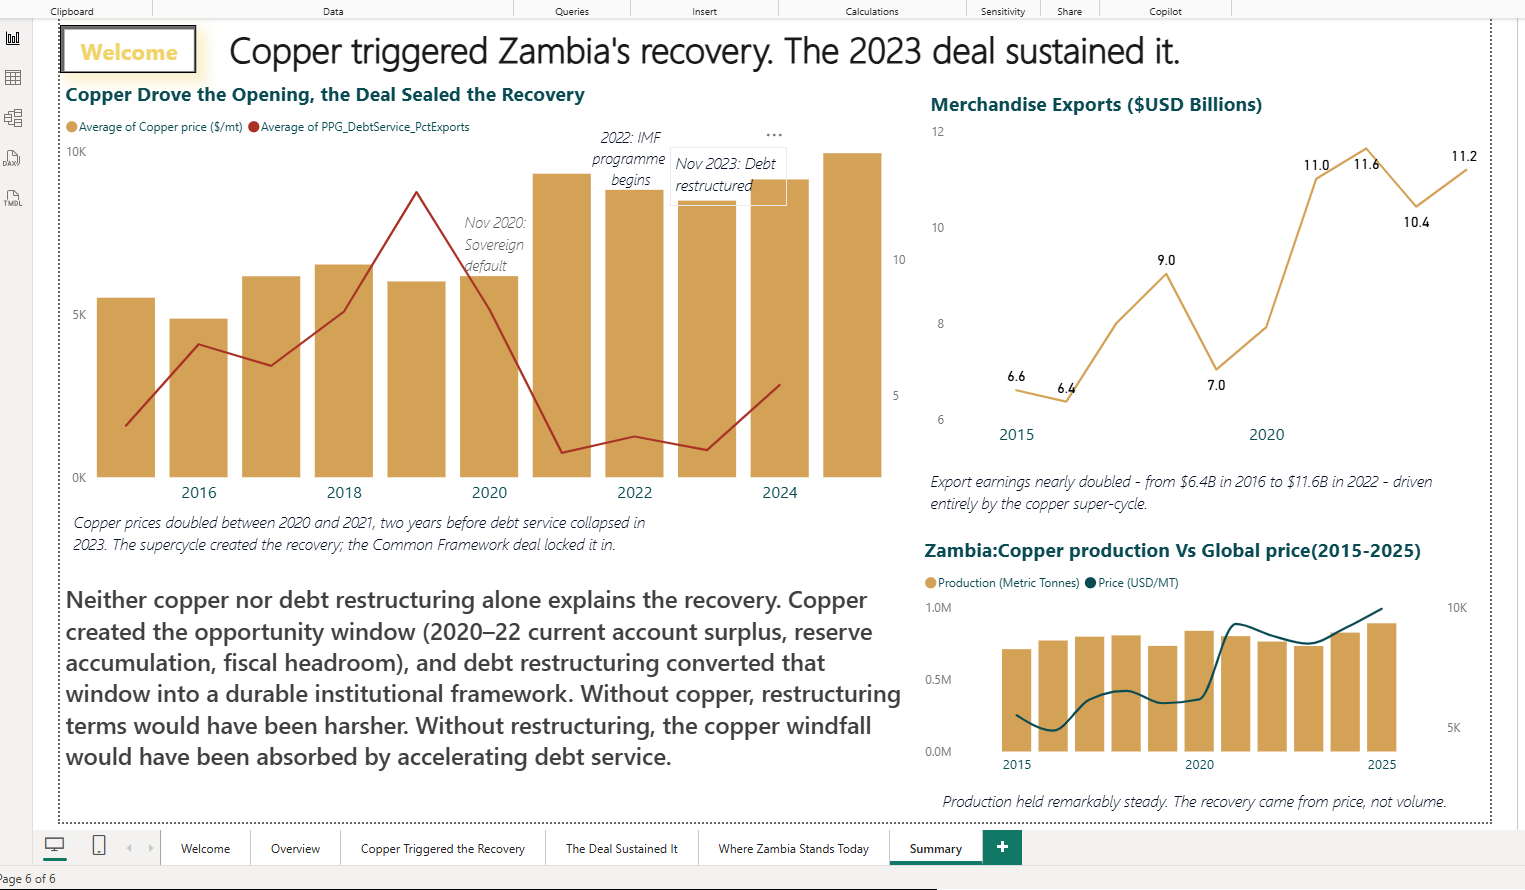

Layout of this report page (visuals, bound fields, positions):
{"tool":"powerbi","page":{"name":"Summary","canvas":[1280,720],"ordinal":5},"visuals":[{"type":"textbox","box":[0,481.4,762.6,238.9],"z":0},{"type":"lineClusteredColumnComboChart","title":"Zambia:Copper production Vs Global price(2015-2025)","fields":{"Category":["Copper production/Price (USD/MT, Nominal).Year "],"Y":["Sum(Copper production/Price (USD/MT, Nominal).Copper production)"],"Y2":["Sum(Copper production/Price (USD/MT, Nominal).Copper price ($/mt))"]},"box":[768.9,464.2,495.8,222.6],"z":1000},{"type":"lineClusteredColumnComboChart","title":"Merchandise Exports ($USD Billions)","fields":{"Category":["Macro_Annual.Year"],"Y2":["Sum(Macro_Annual.MerchandiseExports_Billions)"]},"box":[774.3,64.9,505.7,329],"z":2000},{"type":"lineClusteredColumnComboChart","title":"Copper Drove the Opening, the Deal Sealed the Recovery","fields":{"Category":["Copper production/Price (USD/MT, Nominal).Year "],"Y":["Avg(Copper production/Price (USD/MT, Nominal).Copper price ($/mt))"],"Y2":["Avg(Debt_Detail.PPG_DebtService_PctExports)"]},"box":[0,55.9,762.6,389.4],"z":3000},{"type":"textbox","box":[7.2,437.2,545.4,54.1],"z":4000},{"type":"textbox","box":[357,168.6,80.2,69.4],"z":5000},{"type":"textbox","box":[460.6,72.1,101.9,86.5],"z":6000},{"type":"textbox","box":[546.3,115.4,104.6,53.2],"z":7000},{"type":"textbox","box":[147.1,0,1122.9,56],"z":8000},{"type":"textbox","box":[774.3,400.2,484.1,51.4],"z":9000},{"type":"textbox","box":[785.1,686.9,479.5,33.4],"z":10000},{"type":"actionButton","box":[0,6.3,121.9,43.3],"z":11000}]}

Visuals, with their boxes on the page's 1280x720 design canvas (x1, y1, x2, y2). These are canvas units, not pixel positions in the 1525x890 screenshot, which may show the page scaled, cropped or inside an application window:
textbox: bbox=(0, 481, 763, 720)
"Zambia:Copper production Vs Global price(2015-2025)" lineClusteredColumnComboChart: bbox=(769, 464, 1265, 687)
"Merchandise Exports ($USD Billions)" lineClusteredColumnComboChart: bbox=(774, 65, 1280, 394)
"Copper Drove the Opening, the Deal Sealed the Recovery" lineClusteredColumnComboChart: bbox=(0, 56, 763, 445)
textbox: bbox=(7, 437, 553, 491)
textbox: bbox=(357, 169, 437, 238)
textbox: bbox=(461, 72, 562, 159)
textbox: bbox=(546, 115, 651, 169)
textbox: bbox=(147, 0, 1270, 56)
textbox: bbox=(774, 400, 1258, 452)
textbox: bbox=(785, 687, 1265, 720)
actionButton: bbox=(0, 6, 122, 50)
